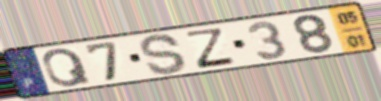3: (246, 18, 289, 62)
7: (84, 40, 121, 83)
8: (291, 13, 335, 56)
Q: (40, 46, 94, 89)
S: (137, 32, 189, 77)
Z: (184, 27, 239, 71)
